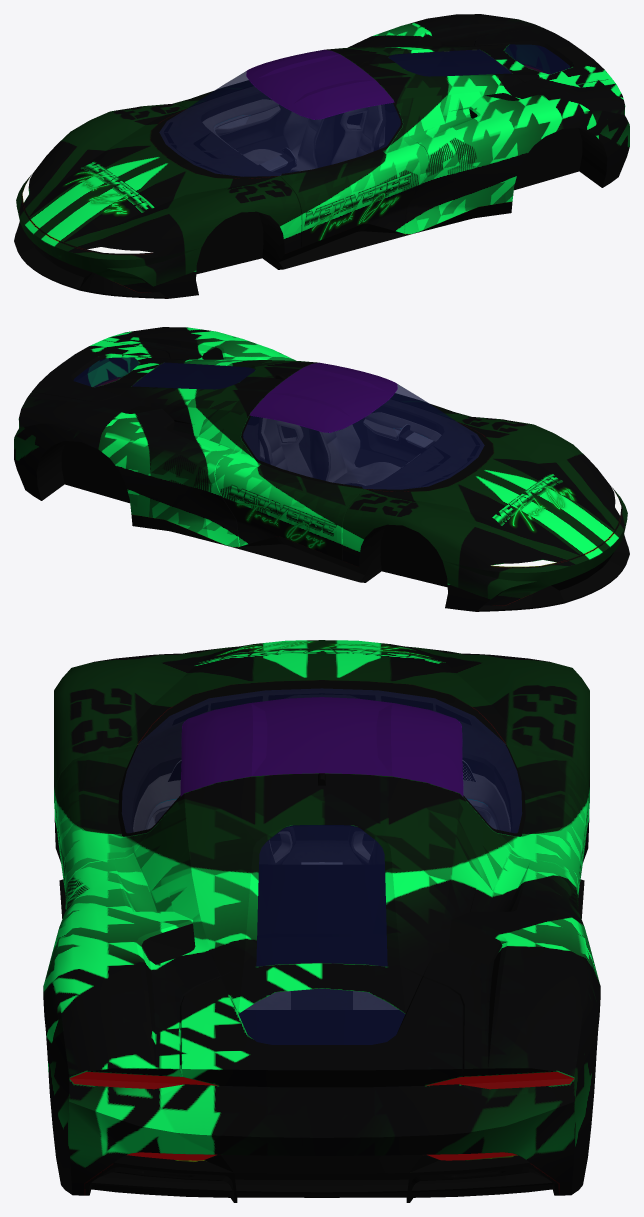
File: car.glb
3 renders of one model, top to bottom at view 1: azimuth 30°, elevation 25°; view 2: azimuth 150°, elevation 25°; view 3: azimuth 270°, elevation 25°, orthographic. The views are drawn at different scales.
Parts seen in each view (by area): view 1: Car 01_Exterior Body, Car_01_Door Left, Car 01_Windshield, Car 01_Exterior_Roof, Car_01_Interior_Seats, Car 01_Interior_Base, Car_01_Door Right, Car 01_Exterior_Rear Windows, Car_01_Interior_Steering Wheel; view 2: Car 01_Exterior Body, Car_01_Door Right, Car 01_Windshield, Car 01_Exterior_Roof, Car_01_Interior_Seats, Car 01_Interior_Base, Car 01_Exterior_Rear Windows, Car_01_Door Left, Car_01_Interior_Steering Wheel; view 3: Car 01_Exterior Body, Car 01_Exterior_Rear Windows, Car 01_Exterior_Roof, Car_01_Door Right, Car_01_Door Left, Car 01_Interior_Base, Car 01_Exterior Tail Lights, Car 01_Windshield, Car_01_Interior_Seats, Car_01_Interior_Dashboard, Car 01_Body Interior_Blackout.
Boxes of the visible parts, box(x1,y1,x2,y2) form: Car 01_Exterior Body: box(14, 14, 629, 298); Car_01_Door Left: box(280, 102, 428, 247); Car 01_Windshield: box(159, 71, 317, 176); Car 01_Exterior_Roof: box(246, 49, 394, 119); Car_01_Interior_Seats: box(243, 104, 385, 172); Car 01_Interior_Base: box(159, 108, 400, 176); Car_01_Door Right: box(172, 80, 290, 149); Car 01_Exterior_Rear Windows: box(388, 44, 570, 76); Car_01_Interior_Steering Wheel: box(258, 148, 296, 172); Car 01_Exterior Body: box(14, 327, 629, 611); Car_01_Door Right: box(215, 415, 363, 560); Car 01_Windshield: box(326, 384, 484, 489); Car 01_Exterior_Roof: box(249, 362, 397, 432); Car_01_Interior_Seats: box(258, 417, 400, 485); Car 01_Interior_Base: box(243, 421, 484, 489); Car 01_Exterior_Rear Windows: box(73, 357, 255, 389); Car_01_Door Left: box(353, 393, 471, 462); Car_01_Interior_Steering Wheel: box(396, 424, 434, 454); Car 01_Exterior Body: box(43, 640, 600, 1202); Car 01_Exterior_Rear Windows: box(238, 825, 405, 1044); Car 01_Exterior_Roof: box(180, 697, 463, 796); Car_01_Door Right: box(460, 722, 588, 894); Car_01_Door Left: box(55, 722, 183, 894); Car 01_Interior_Base: box(138, 688, 505, 1009); Car 01_Exterior Tail Lights: box(69, 1071, 574, 1160); Car 01_Windshield: box(138, 688, 505, 744); Car_01_Interior_Seats: box(259, 827, 384, 864); Car_01_Interior_Dashboard: box(149, 760, 494, 820); Car 01_Body Interior_Blackout: box(173, 693, 470, 724).
Bounding box in the file's own units: 7.25 × 1.6 × 3.16.
Materials: 11 (6 with a texture image).
